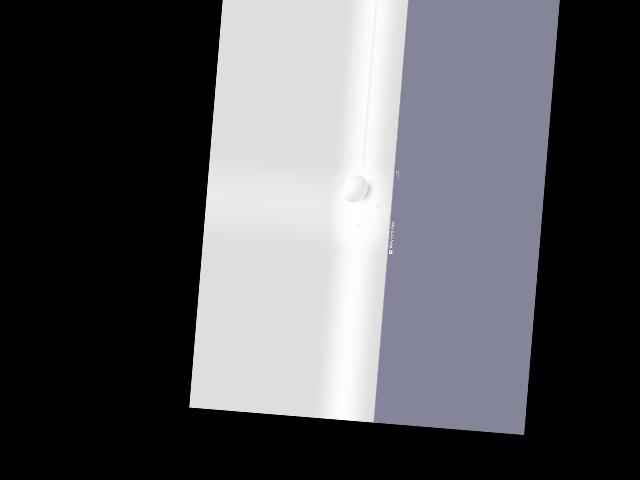egg: (342, 173, 369, 202)
